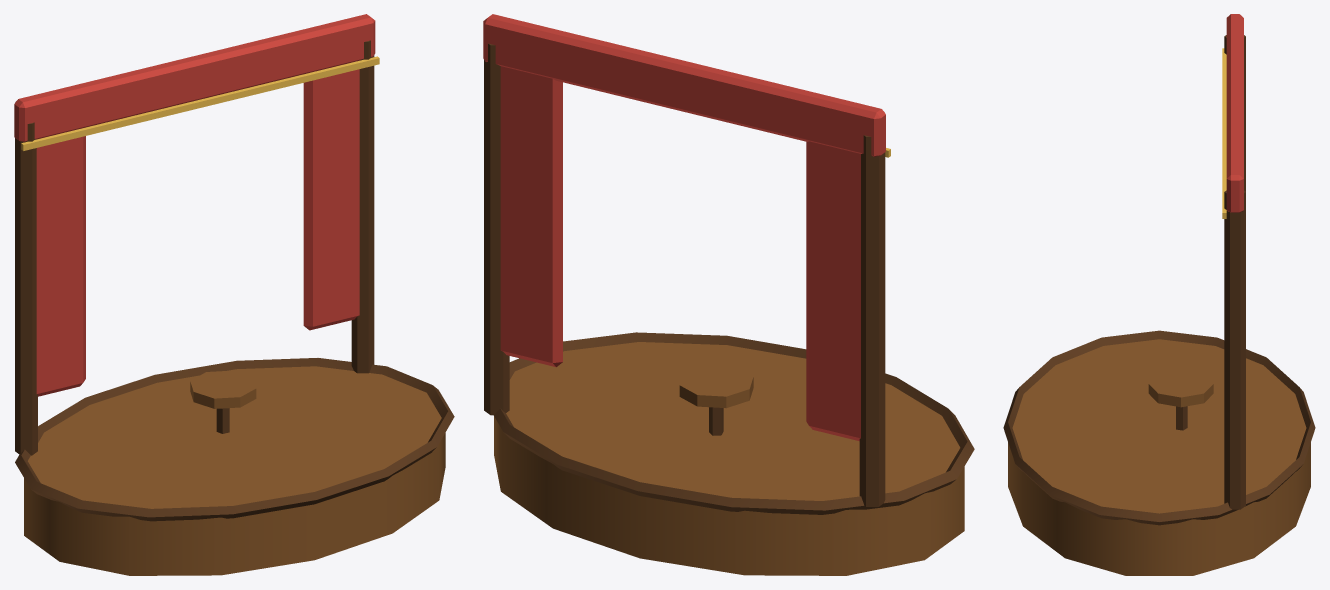
Rendered from PR_Decor_Sahne.fbx.
The picture shows the model from 3 angles, left to right: view 1: azimuth 30°, elevation 25°; view 2: azimuth 150°, elevation 25°; view 3: azimuth 270°, elevation 25°; orthographic projection. The views are drawn at different scales.
Parts seen in each view (by area): view 1: PR_Decor_Sahne; view 2: PR_Decor_Sahne; view 3: PR_Decor_Sahne.
Part boxes in pixels (bbox=[...]): PR_Decor_Sahne: bbox=[14, 14, 454, 575]; PR_Decor_Sahne: bbox=[483, 14, 974, 575]; PR_Decor_Sahne: bbox=[1003, 14, 1315, 575].
Size of the model in its own units: 2.06 by 2 by 1.44.
